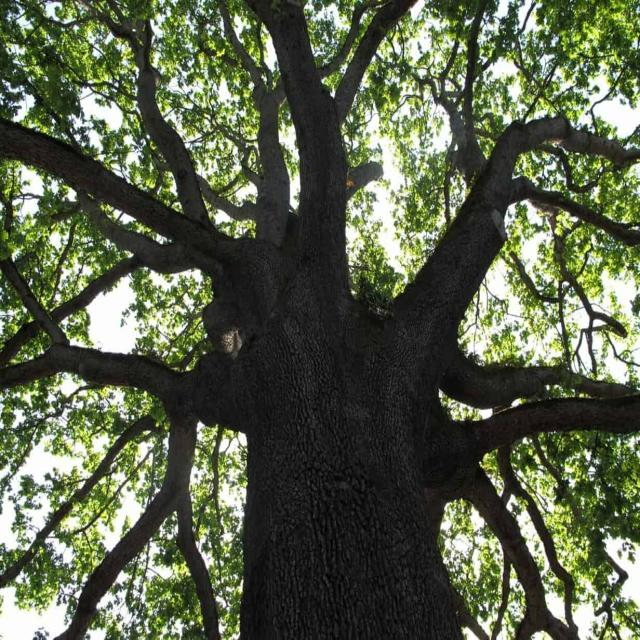Quercus garryana: (0, 0, 639, 630)
